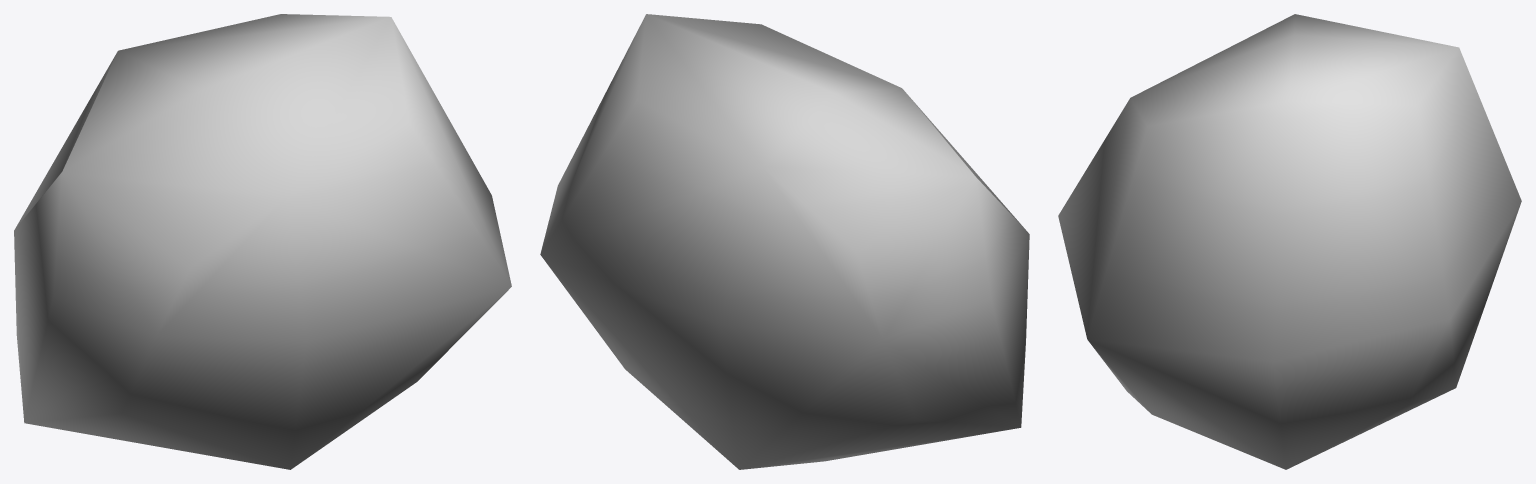
File: Cloud003.glb
3 views of the same model, side by side, from view 1: azimuth 30°, elevation 25°; view 2: azimuth 150°, elevation 25°; view 3: azimuth 270°, elevation 25° (orthographic). The views are drawn at different scales.
Parts seen in each view (by area): view 1: Cloud003; view 2: Cloud003; view 3: Cloud003.
Boxes of the visible parts, x1,y1,x2,y2 form: Cloud003: (14,14,511,469); Cloud003: (540,14,1029,469); Cloud003: (1058,14,1521,469).
Size of the model in its own units: 501 by 409 by 405.
1 material, 1 textured.
